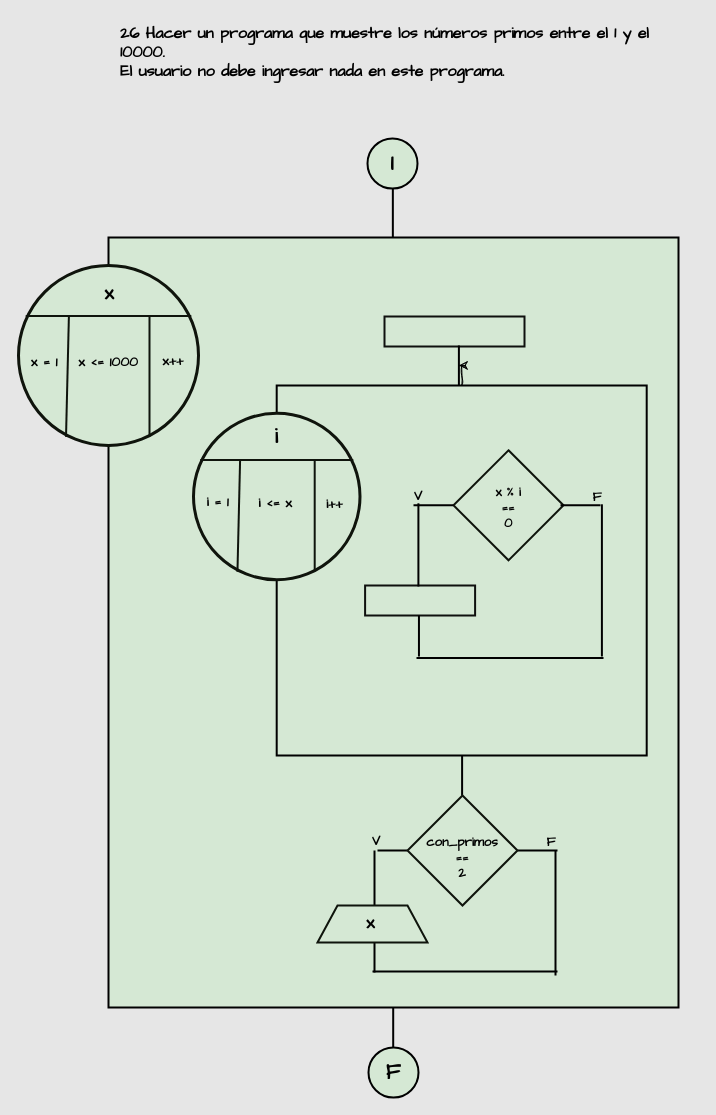
Some shapes in this 716 by 1115 pixel diagram are drawn without their labels. Here are the shapes that lost their labels. From the top down, the centre of each, then its label:
At [454,331]: "con_primos = 0".
At [420,600]: "con_primos++".
